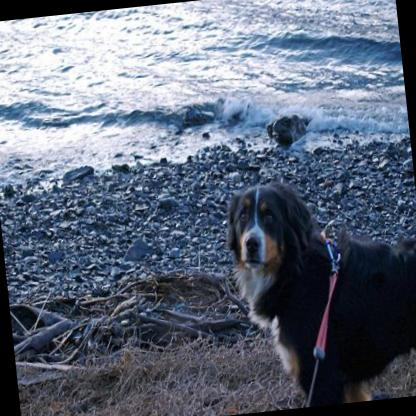Bernese_mountain_dog: (219, 166, 416, 411)
